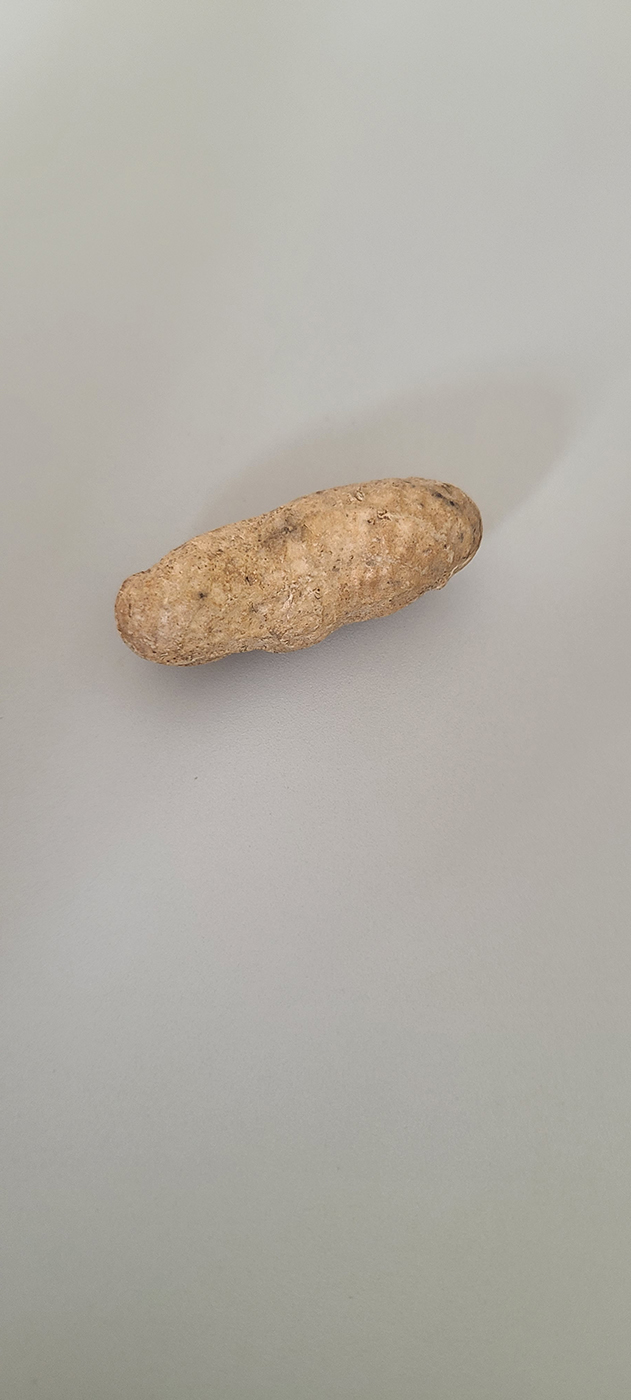h: (112, 474, 484, 673)
